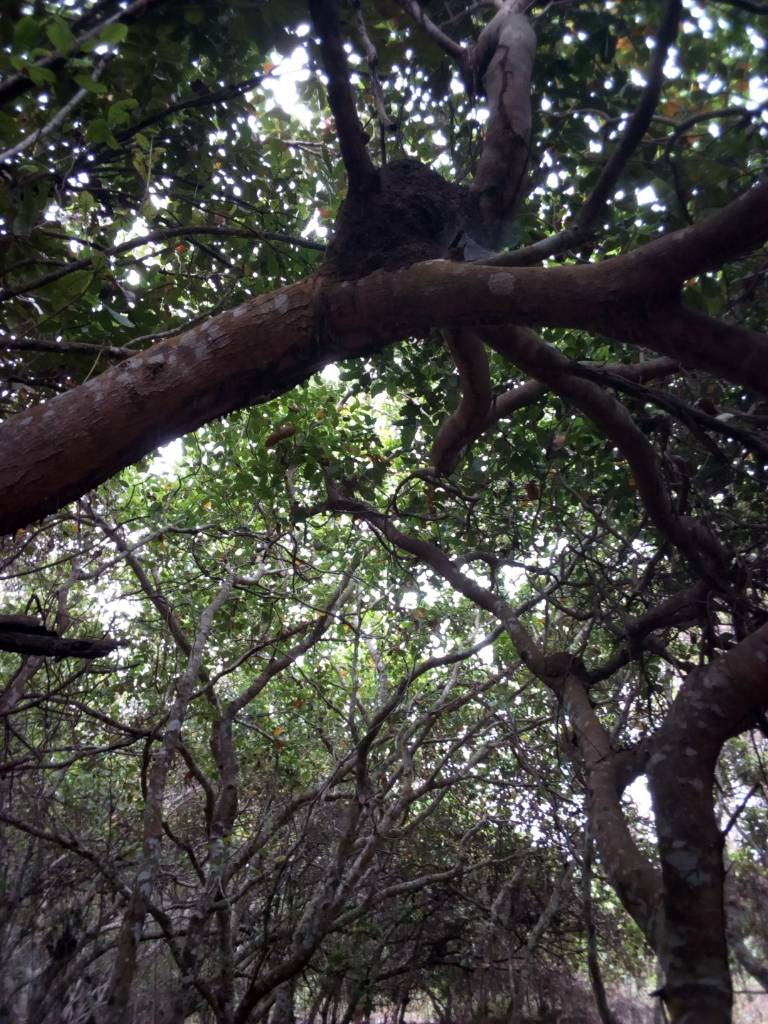Termites: (329, 158, 463, 264)
